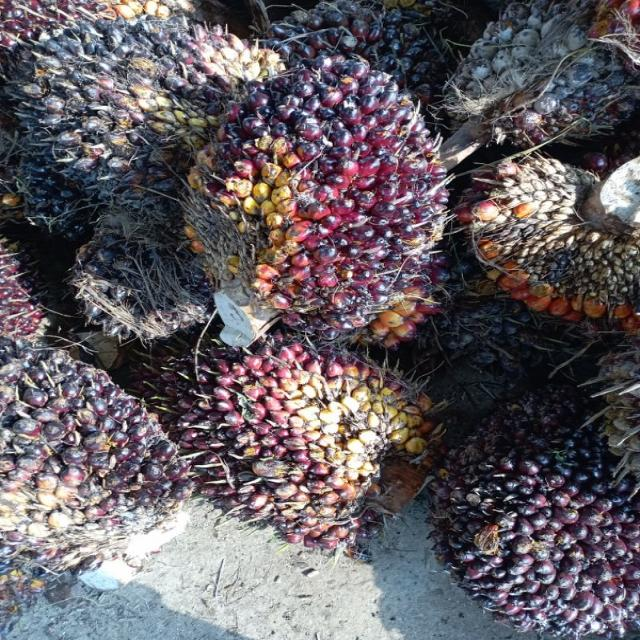fraksi 1: (143, 308, 459, 578)
